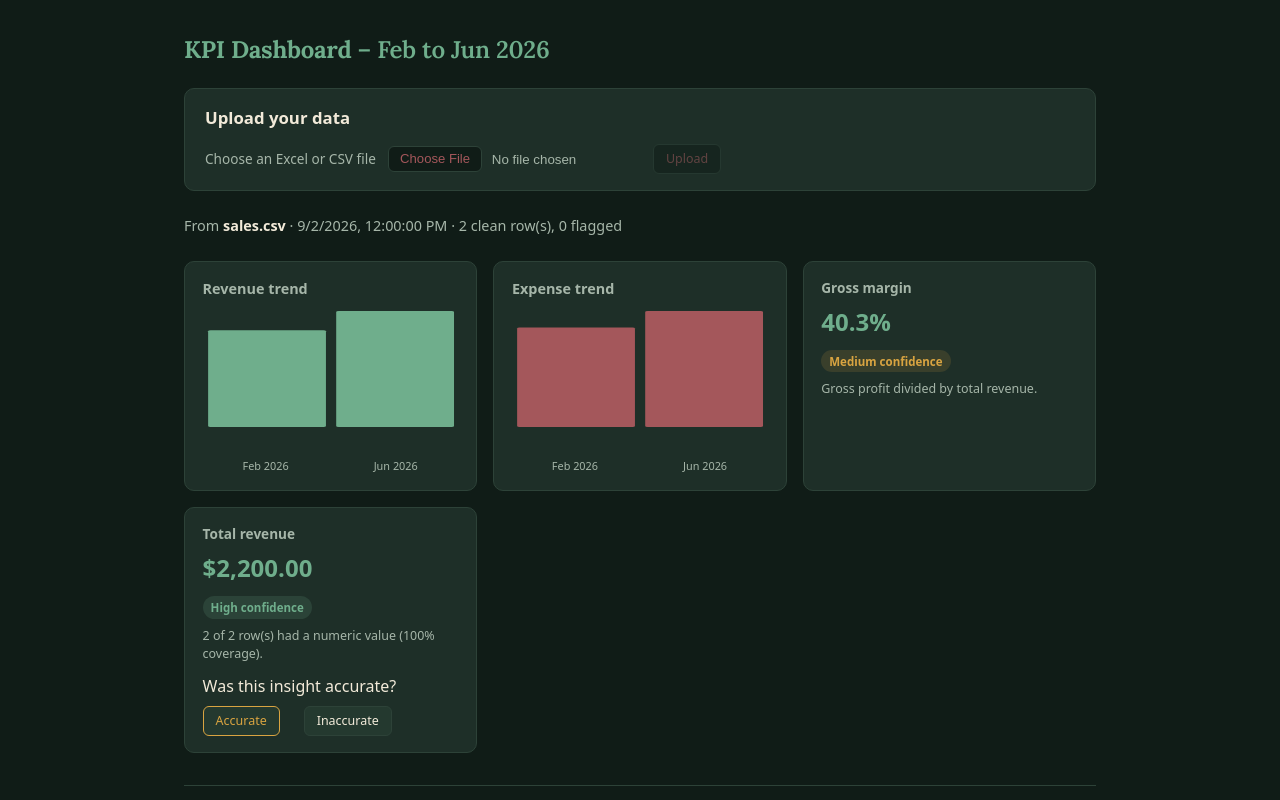
Test: Dashboard — feedback prompts (STORY-009 / REQ-011) › submitting feedback removes the prompt and shows the given rating
Expected: the text "Was this insight accurate?" is shown, x1=203 y1=675 x2=396 y2=697
Step 1. Click the button "Accurate" → {"x": 241, "y": 721}, box x1=203 y1=706 x2=280 y2=736
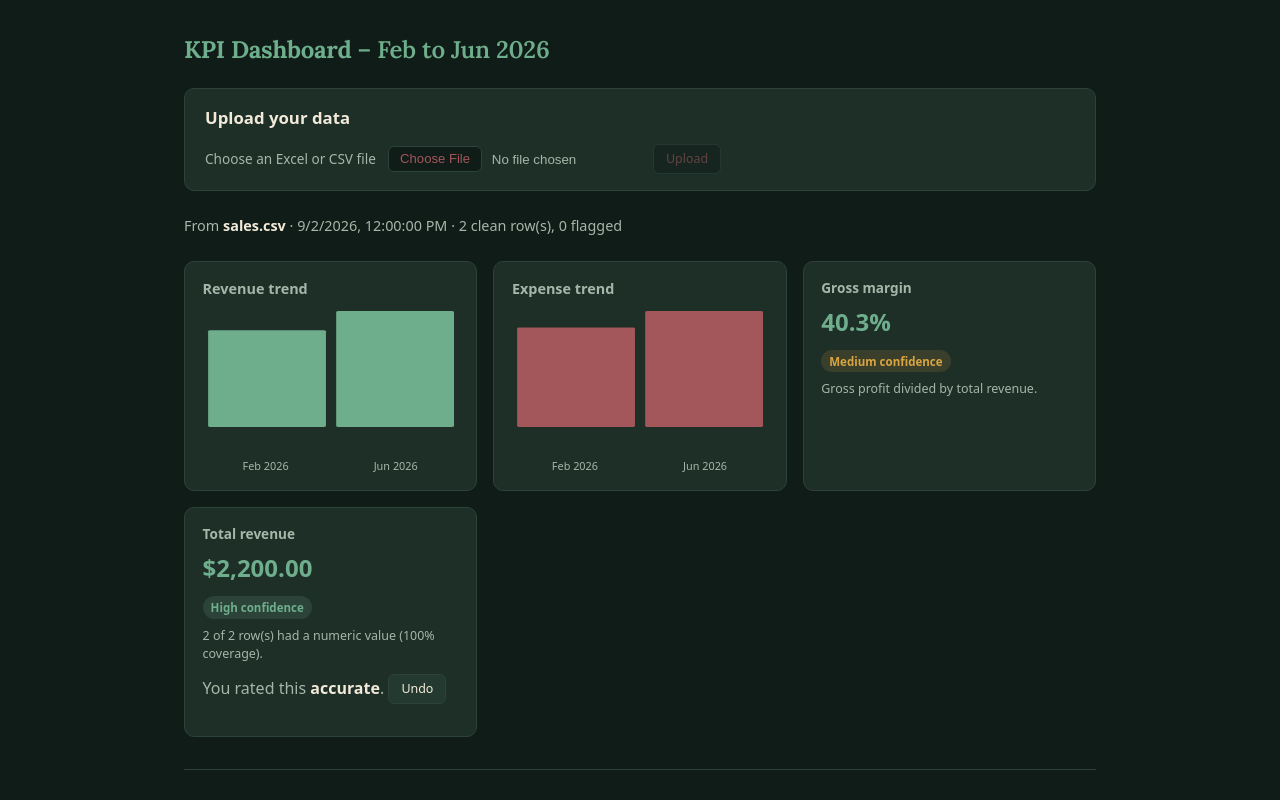
Now the text "You rated this accurate. Undo" is shown, box x1=203 y1=674 x2=459 y2=704
Now the text "Was this insight accurate" is gone
